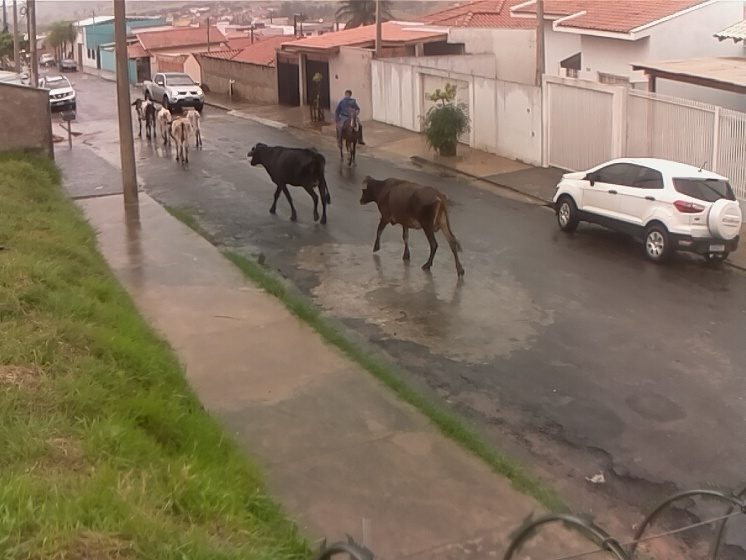person: (333, 88, 370, 149)
